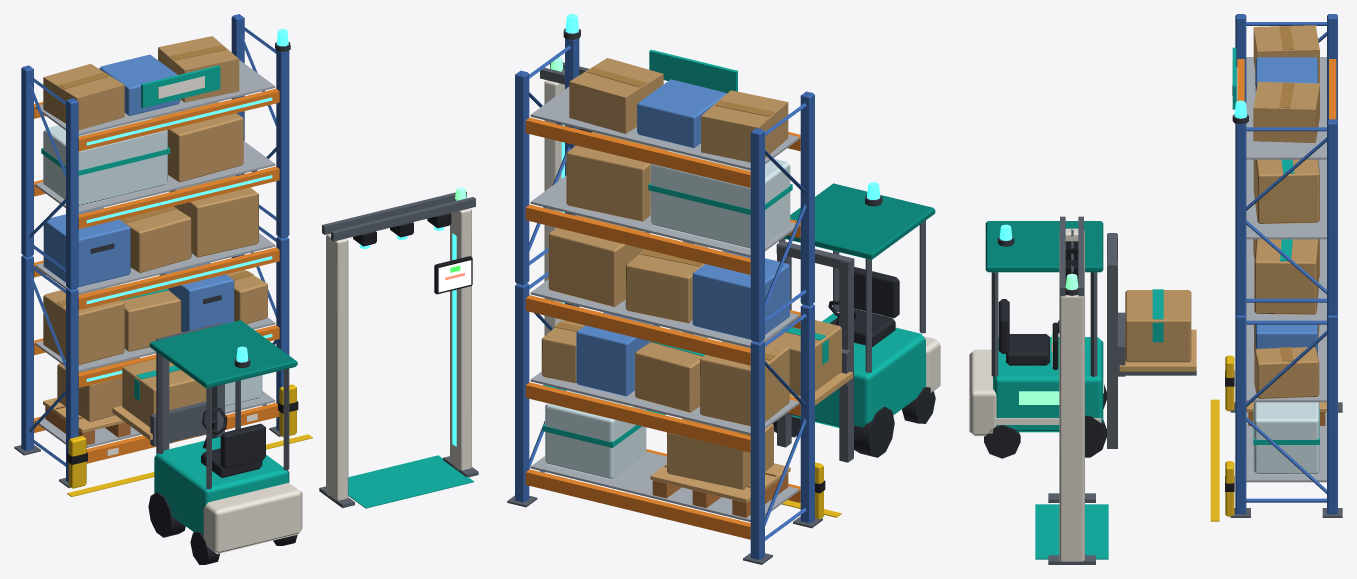
Rendered from station_buffer_3.glb.
3 renders of one model, left to right at view 1: azimuth 30°, elevation 25°; view 2: azimuth 150°, elevation 25°; view 3: azimuth 270°, elevation 25°, orthographic. The views are drawn at different scales.
Visible parts, largest first — view 1: station_buffer_3; view 2: station_buffer_3; view 3: station_buffer_3.
Boxes of the visible parts, bbox=[...] form: station_buffer_3: bbox=[14, 14, 478, 564]; station_buffer_3: bbox=[507, 14, 940, 564]; station_buffer_3: bbox=[969, 14, 1342, 564].
Size of the model in its own units: 2.14 by 2.47 by 2.03.
